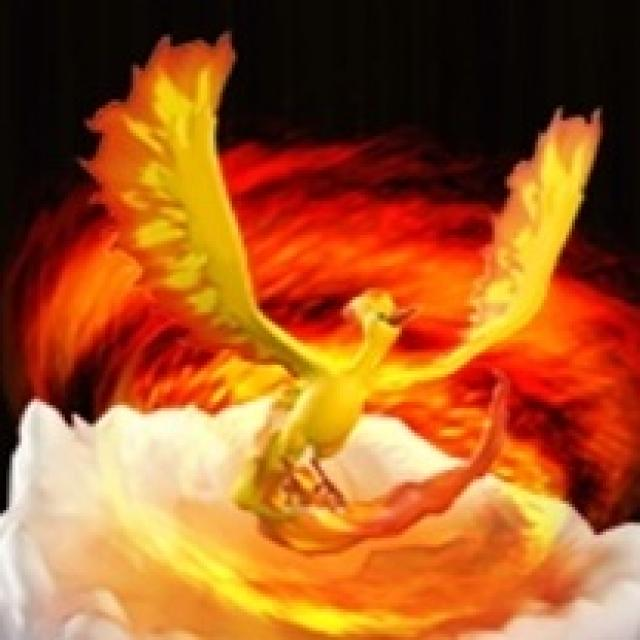Moltres: (146, 224, 528, 547)
